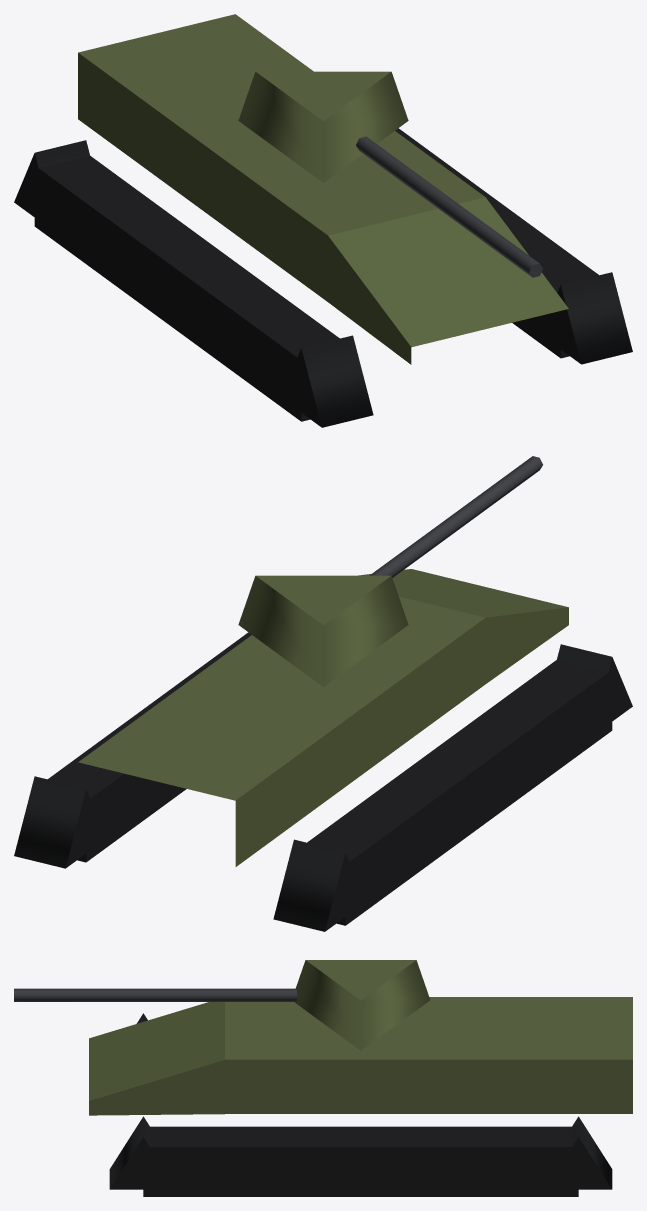
Rendered from veh_ground_tank_light_a06_lod2.glb.
3 views of the same model, one above another, from view 1: azimuth 30°, elevation 25°; view 2: azimuth 150°, elevation 25°; view 3: azimuth 270°, elevation 25° (orthographic). The views are drawn at different scales.
Visible parts, largest first — view 1: body, track_r, turret, track_l; view 2: body, track_r, turret, track_l; view 3: body, track_l, turret.
Boxes of the visible parts, x1,y1,x2,y2 form: body: (78, 14, 568, 364); track_r: (14, 140, 373, 427); turret: (238, 71, 542, 277); track_l: (395, 128, 632, 364); body: (78, 569, 568, 866); track_r: (273, 644, 632, 931); turret: (238, 456, 542, 686); track_l: (14, 632, 251, 868); body: (89, 997, 632, 1115); track_l: (109, 1116, 612, 1196); turret: (14, 960, 430, 1050).
Bounding box in the file's own units: 3.1 × 1.89 × 6.56.
